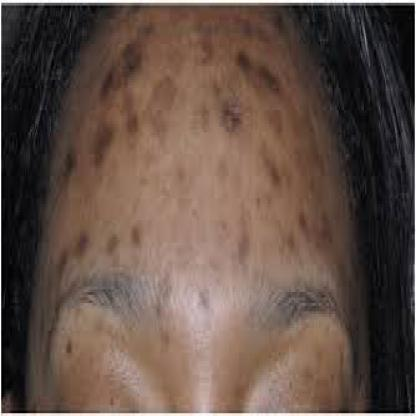darkspot: (90, 52, 331, 262), (53, 152, 90, 256), (55, 330, 76, 355)
